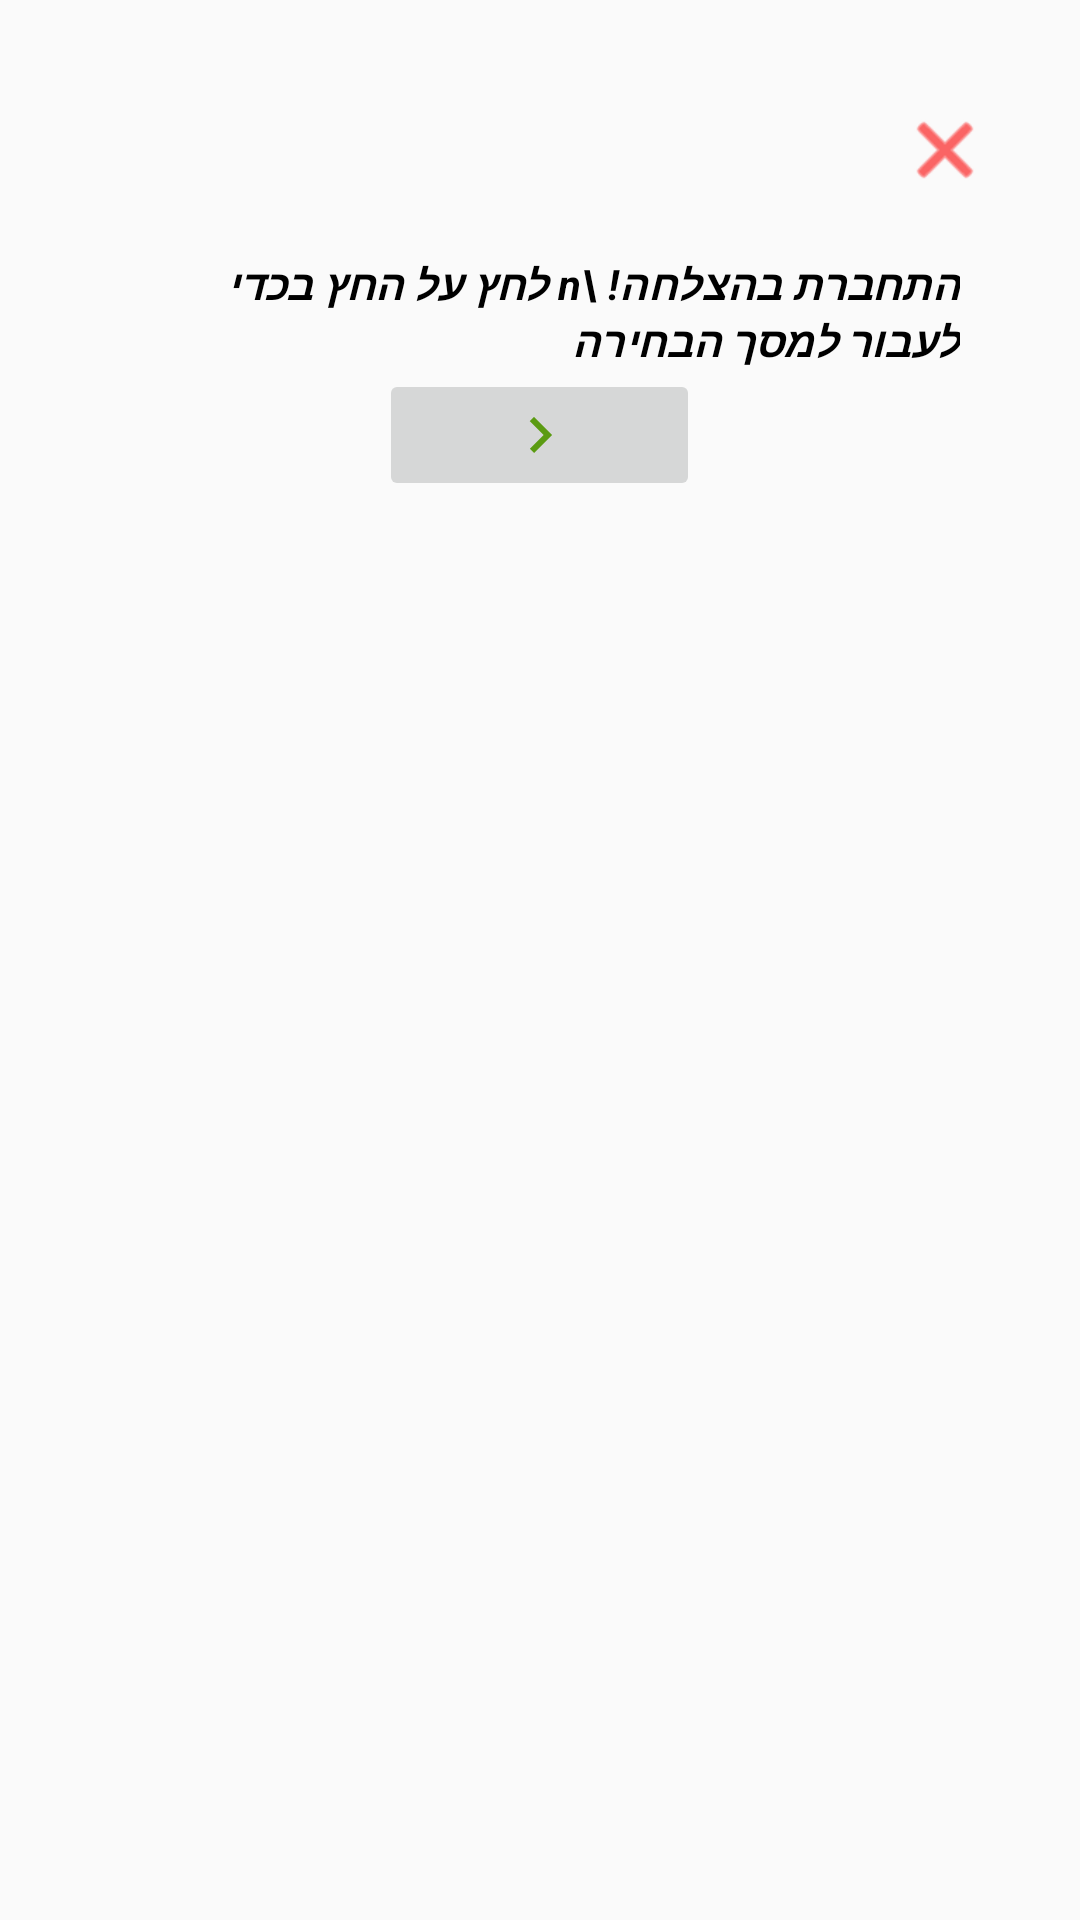

Named icons in this screenshot (1080 × 1920) and their centers, (x=x, y=y):
close clear cancel: (x=945, y=150)
keyboard arrow right: (x=539, y=435)
